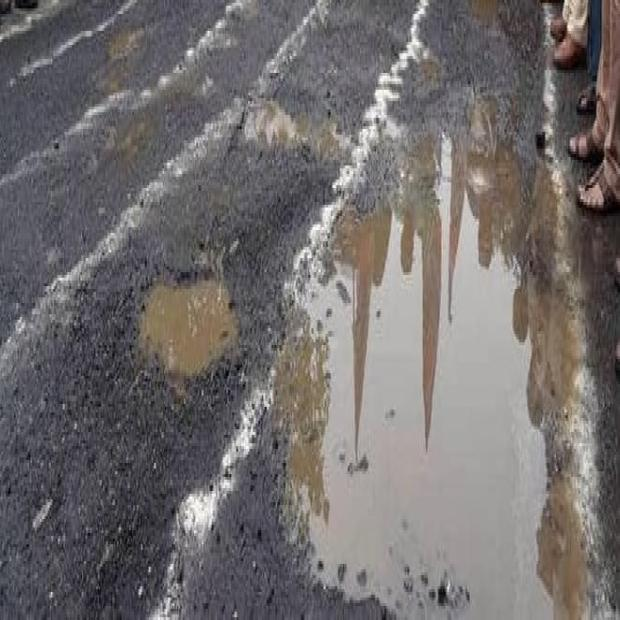lubang: (290, 137, 589, 617), (139, 264, 238, 390), (243, 98, 348, 191)
